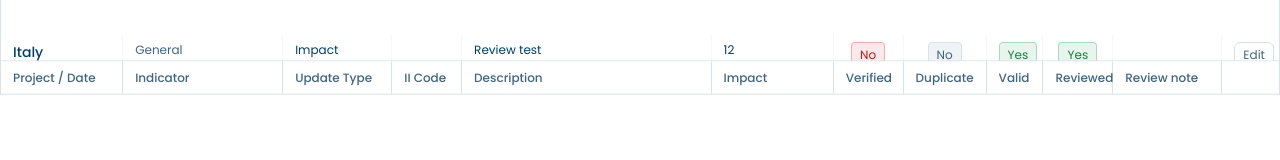
Scenario: rapid edits across cells during a slow save keep the latest choices and serialize requests
Step 1. Click the 2nd button "Yes" → [1078, 55], box x1=1058 y1=42 x2=1097 y2=68
Wait 550 ms
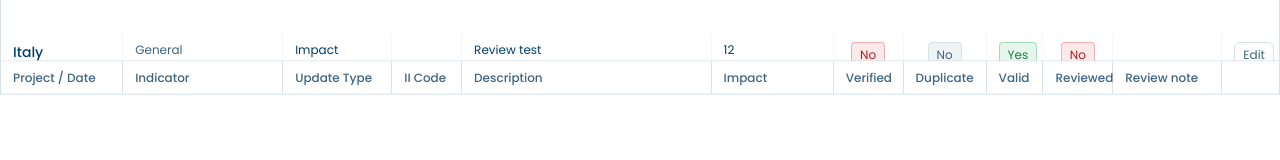
Step 2. Click the 1st button "No" → [868, 55], box x1=851 y1=42 x2=885 y2=68
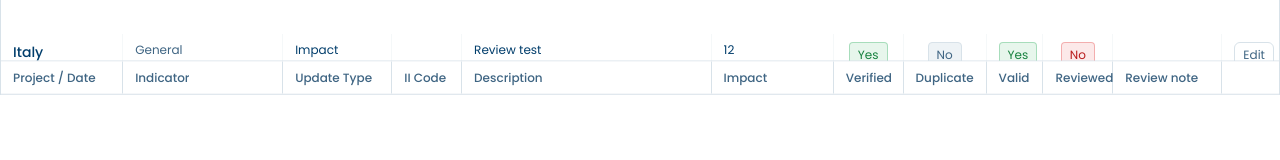
Step 3. Click the 2nd button "No" → [1078, 55], box x1=1061 y1=42 x2=1095 y2=68
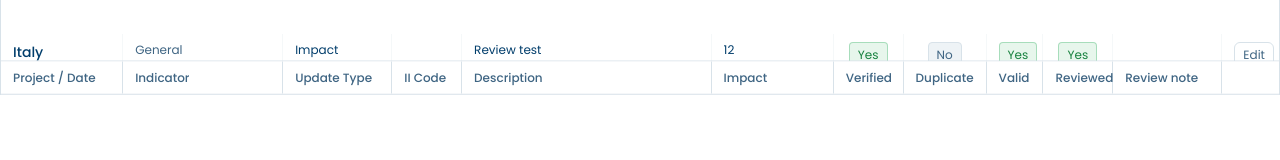
Step 4. Click the 2nd button "Yes" → [1018, 55], box x1=999 y1=42 x2=1037 y2=68
Wait 560 ms
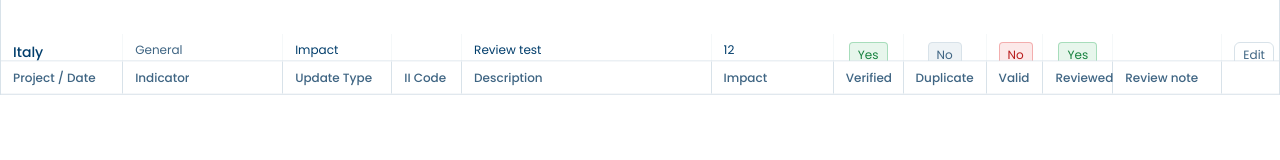
Now the 1st button "Yes" is shown, box x1=849 y1=42 x2=888 y2=68
Now the 2nd button "Yes" is shown, box x1=1058 y1=42 x2=1097 y2=68
Now the 2nd button "No" is shown, box x1=999 y1=42 x2=1033 y2=68
